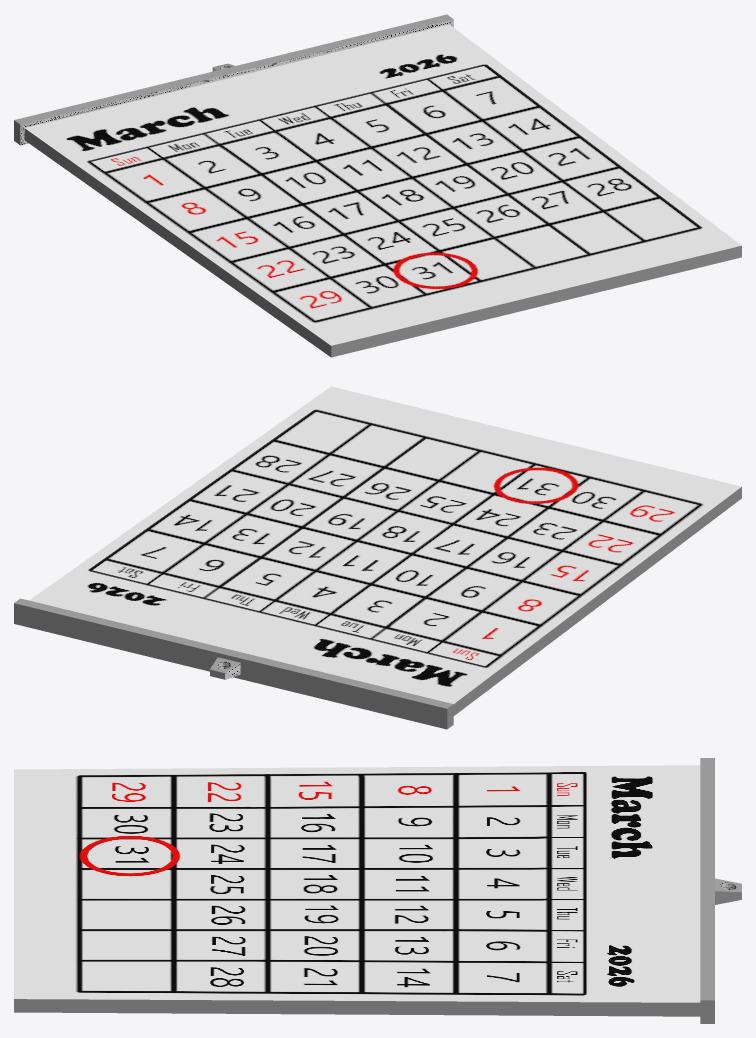
The model's file is Calendar.fbx.
3 views of the same model, one above another, from view 1: azimuth 30°, elevation 25°; view 2: azimuth 150°, elevation 25°; view 3: azimuth 270°, elevation 25° (orthographic). The views are drawn at different scales.
Parts seen in each view (by area): view 1: pCube2; view 2: pCube2; view 3: pCube2.
Boxes of the visible parts, x1,y1,x2,y2 form: pCube2: (14,14,741,357); pCube2: (14,386,741,729); pCube2: (14,758,741,1023).
Size of the model in its own units: 9.56 by 0.4375 by 12.15.
2 materials, 1 textured.
